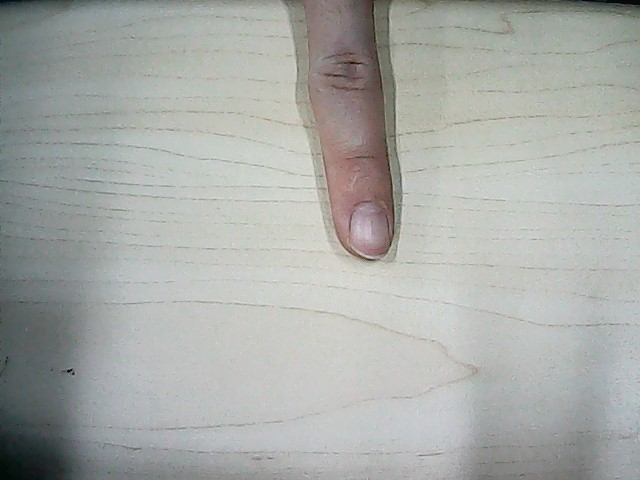nail: (347, 199, 391, 254)
